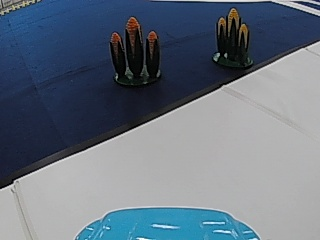corn: (107, 16, 164, 86), (212, 4, 253, 68)
